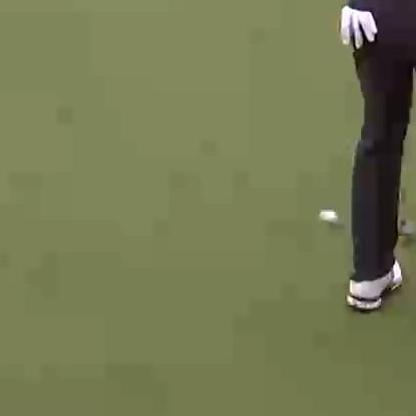golfball: (315, 207, 338, 224)
